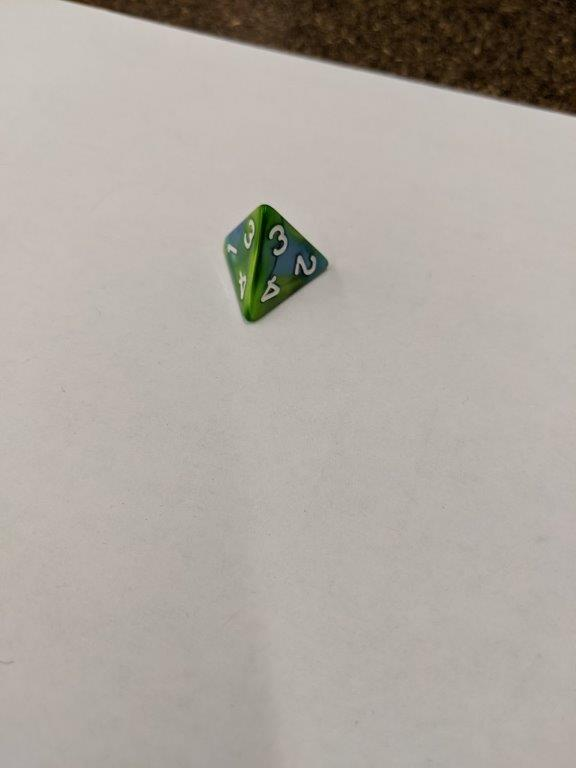d4-3: (222, 202, 331, 325)
